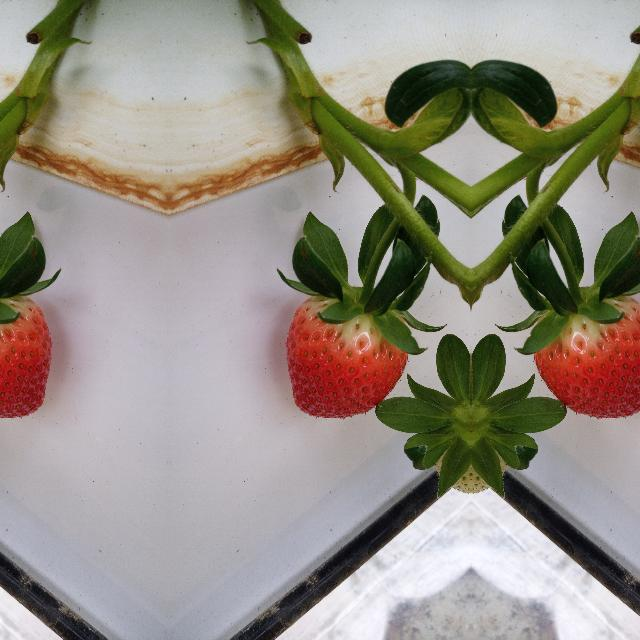Health_100: (283, 296, 407, 420), (534, 296, 640, 420), (0, 296, 53, 420)
